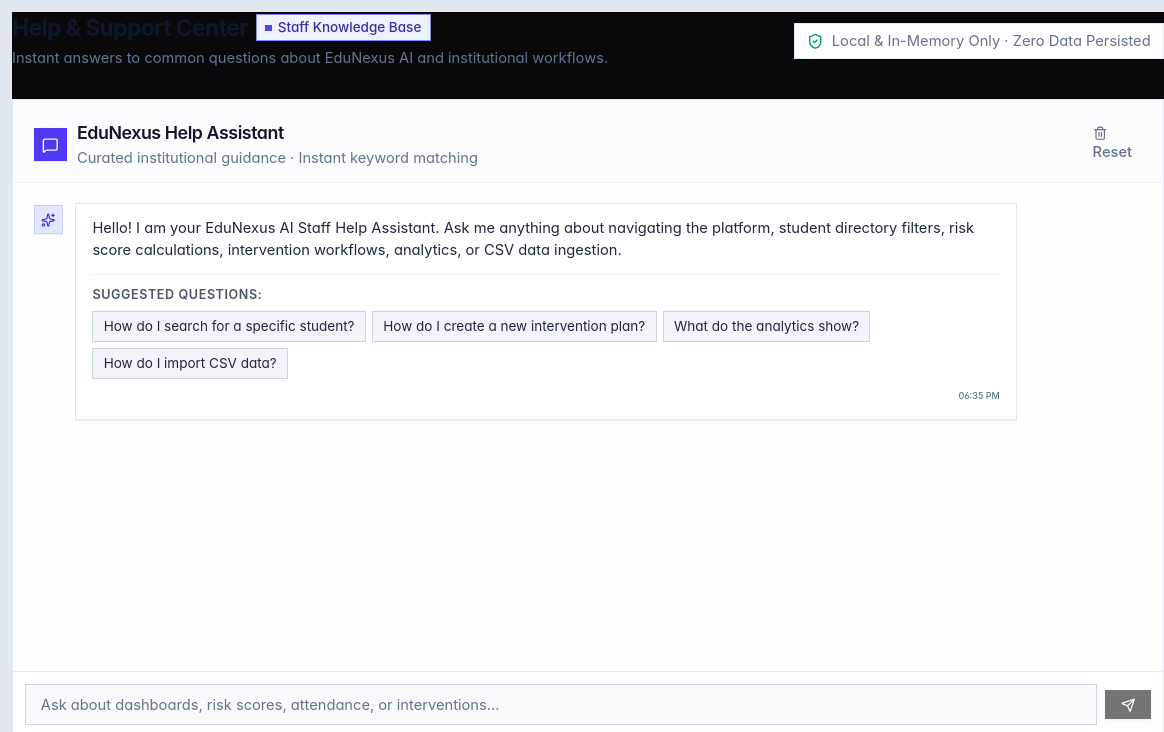
it: HelpPage Component › allows user to send a chat message and receive an assistant response
Replace the text in the field named "Ask a question about EduNexus AI" with "How does authentication work?" at [561, 705], box [25,684,1097,725]
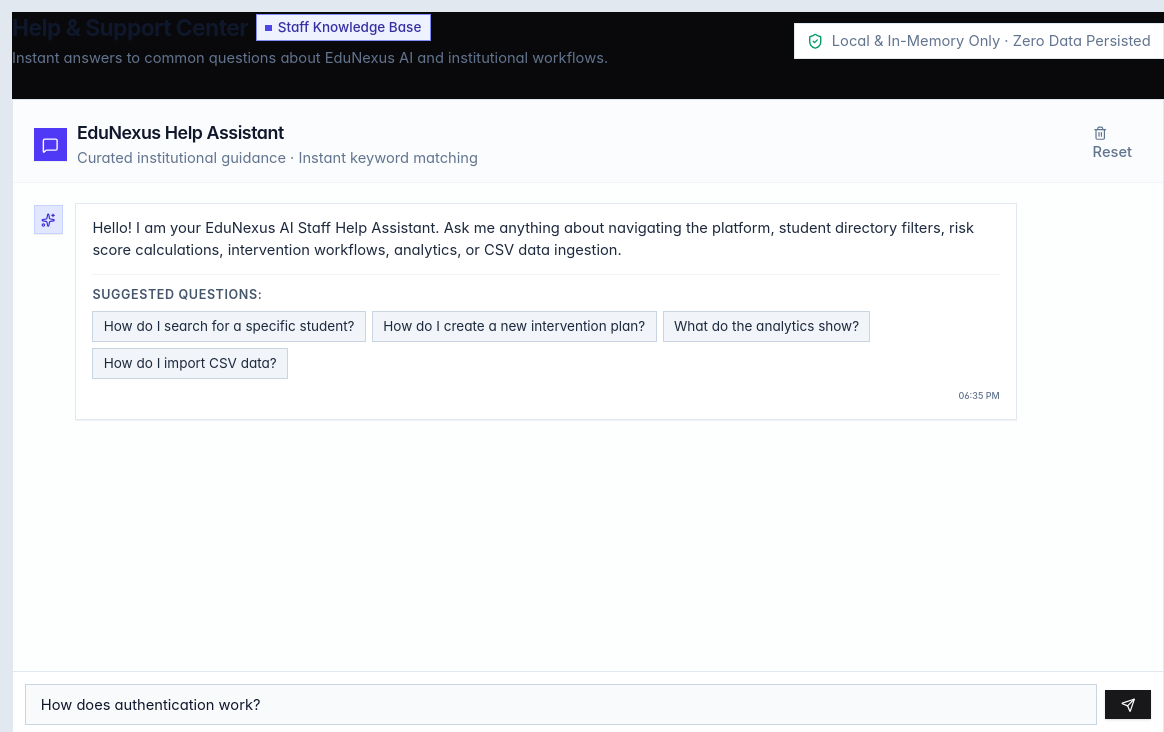
Submit the form named "Ask a question about EduNexus AI", box [25,684,1151,725]
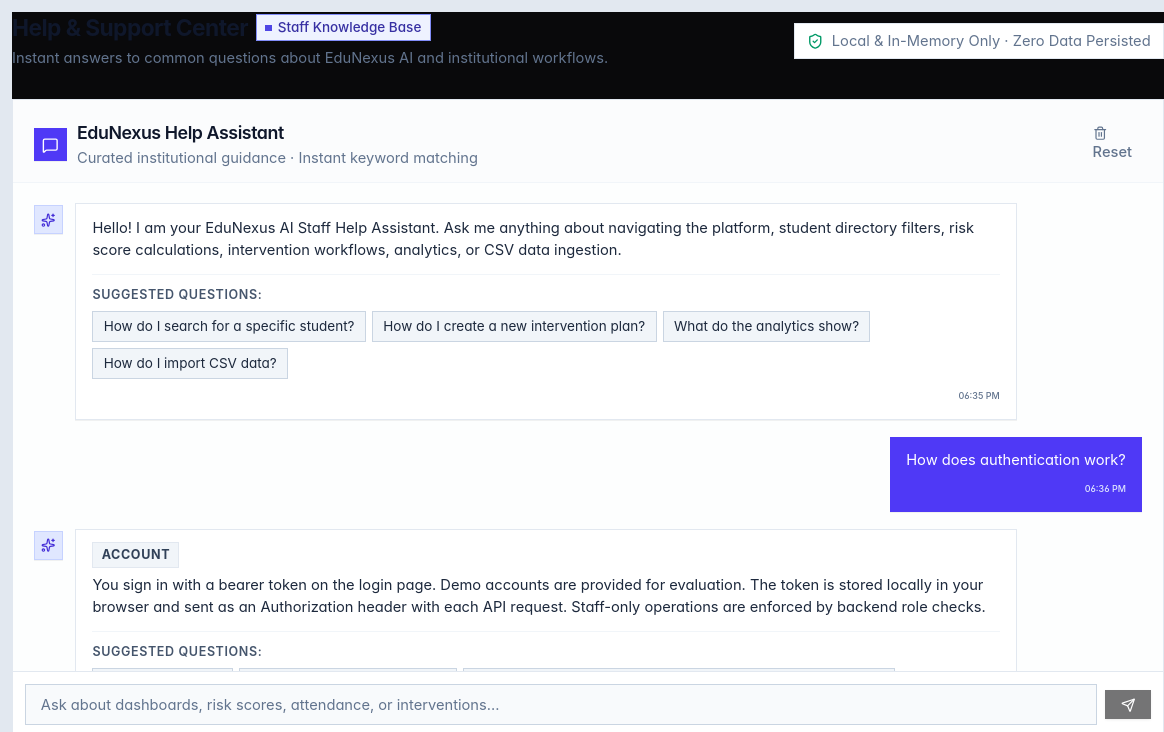
Now the text "How does authentication work?" is shown, box [906,449,1126,472]
Now the text "You sign in with a bearer token on the login page" is shown, box [92,576,986,616]
